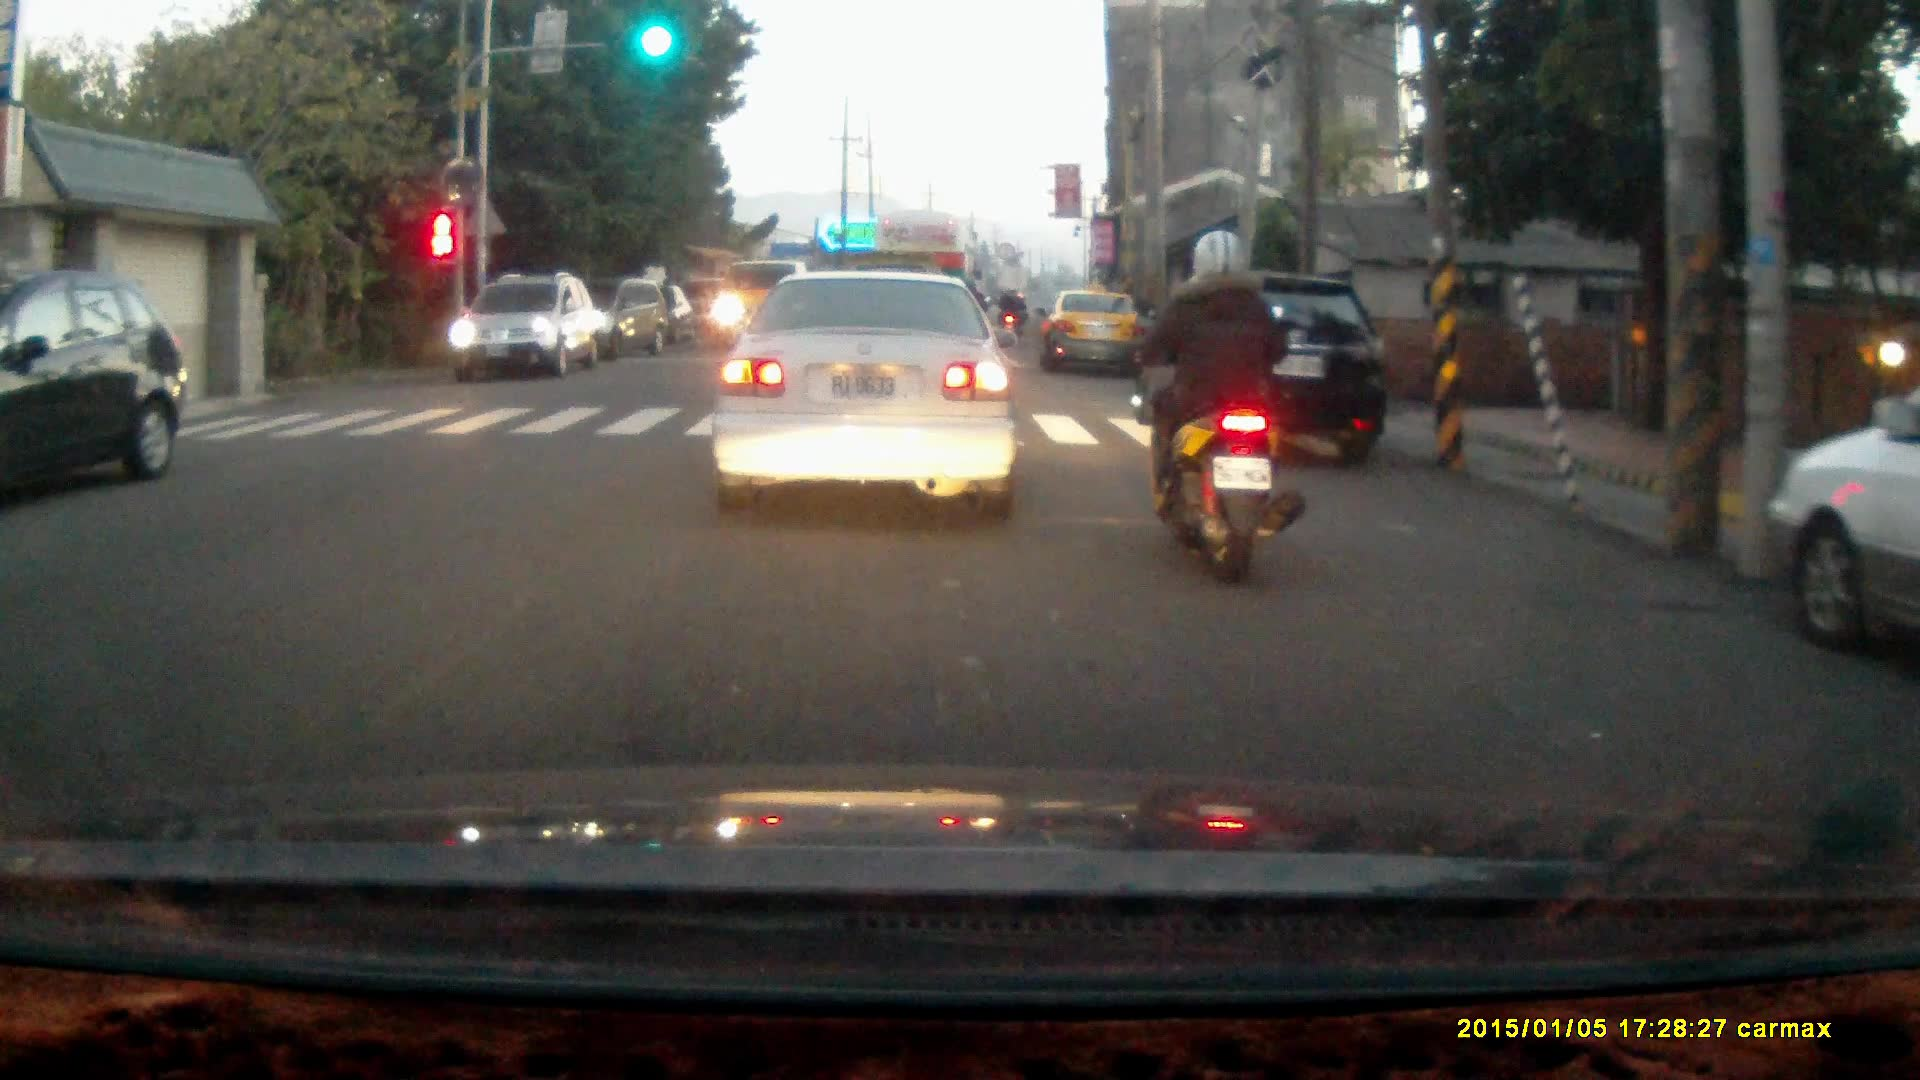rider: (1133, 226, 1308, 588)
vehicle: (705, 267, 1021, 525), (1128, 277, 1394, 469), (1762, 367, 1920, 659), (1, 270, 191, 496), (451, 280, 598, 392), (873, 211, 978, 357), (551, 278, 673, 367), (1039, 289, 1146, 378)
